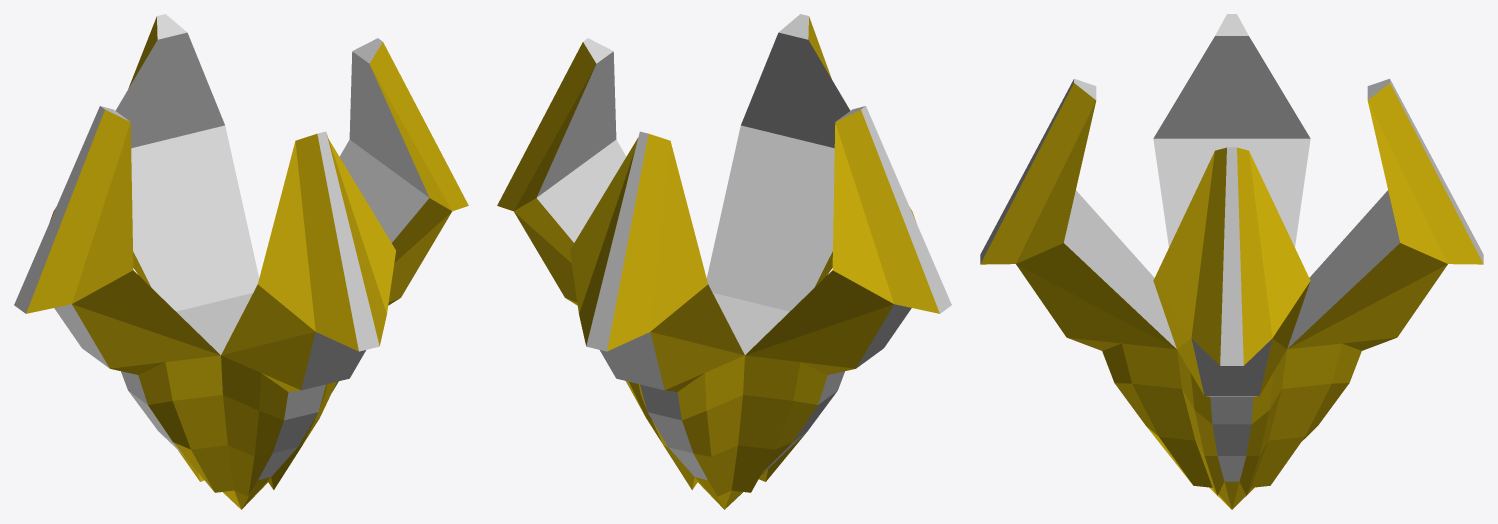
The model's file is clawOpen.fbx.
3 renders of one model, left to right at view 1: azimuth 30°, elevation 25°; view 2: azimuth 150°, elevation 25°; view 3: azimuth 270°, elevation 25°, orthographic.
Visible parts, largest first — view 1: Plane; view 2: Plane; view 3: Plane.
Part boxes in pixels (x1,y1,x2,y2): Plane: [14, 14, 468, 509]; Plane: [497, 14, 951, 509]; Plane: [980, 14, 1483, 509].
Bounding box in the file's own units: 236 × 222 × 236.
